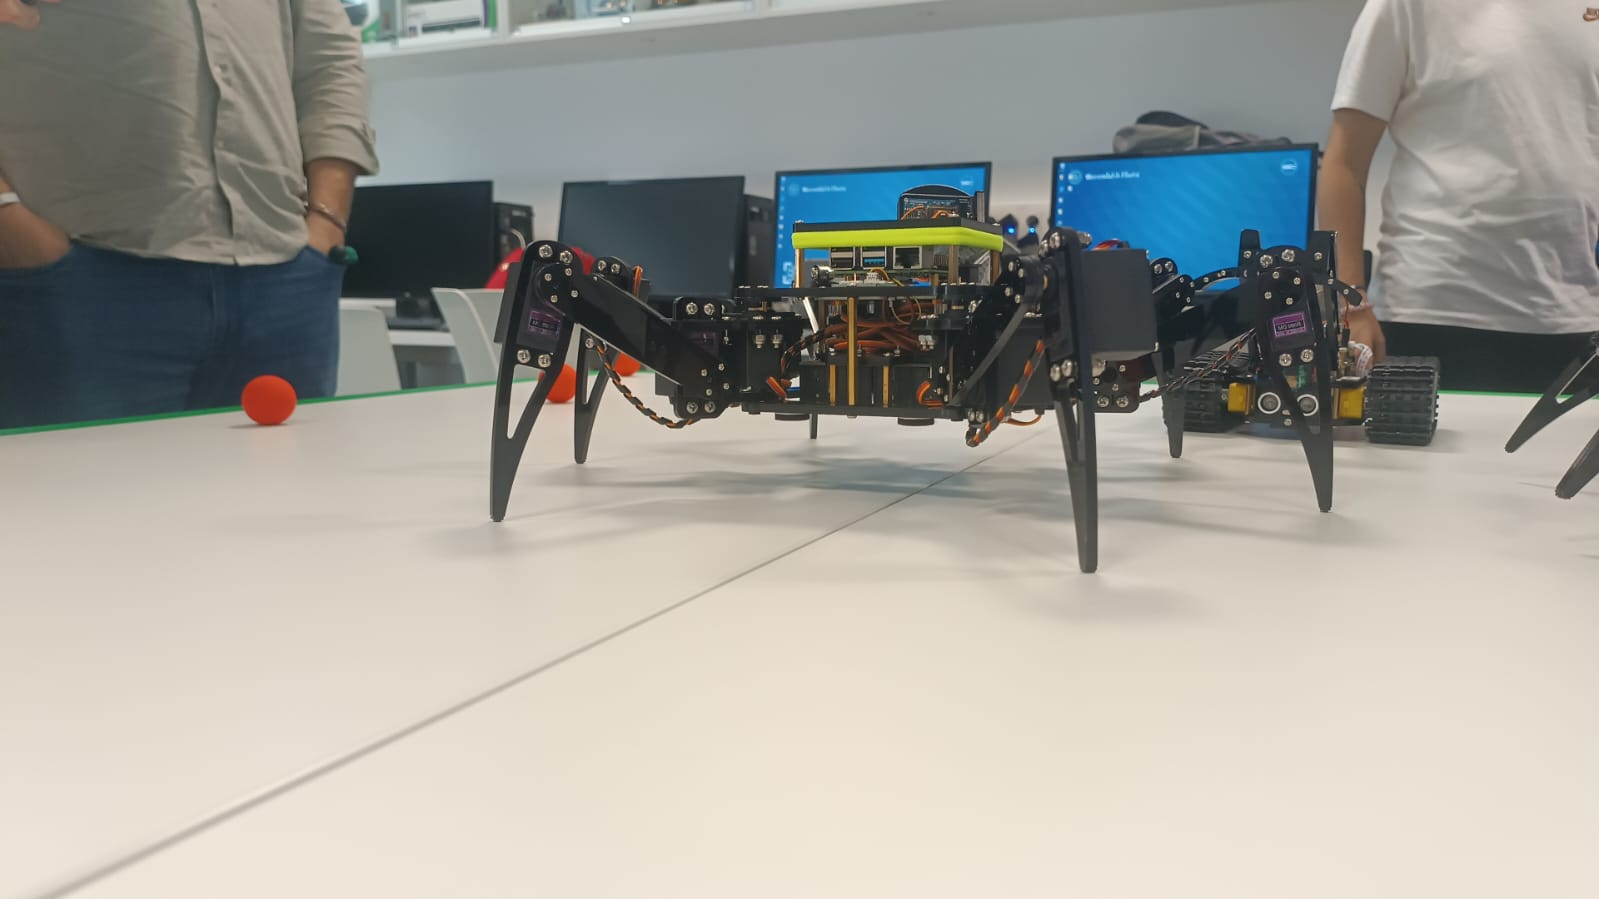bola_lejos: (238, 369, 294, 427), (535, 361, 582, 406)
hexapodo_ajeno: (479, 180, 1346, 575)
